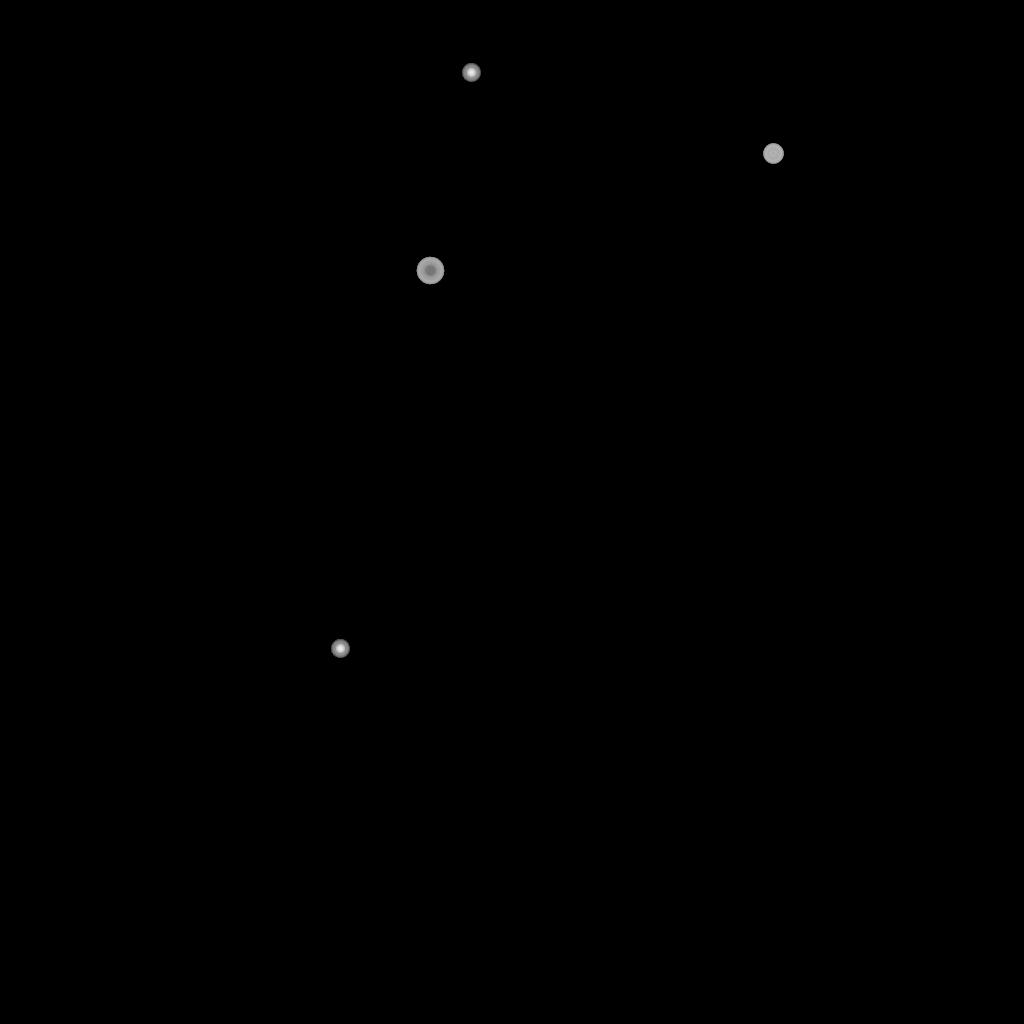depth:-20: (331, 640, 349, 658), (462, 64, 480, 82)
depth:-40: (763, 144, 783, 164)
depth:-50: (416, 257, 444, 285)
